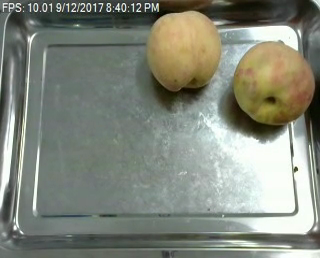Peach: (231, 40, 315, 126), (147, 10, 223, 92)
